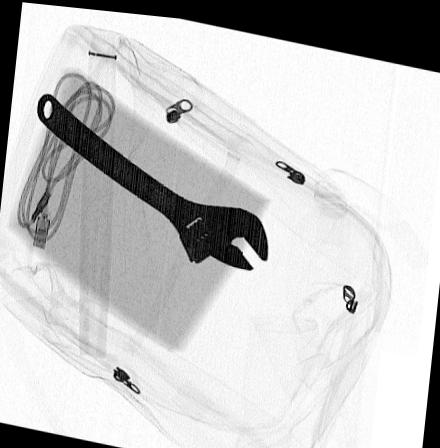Wrench: (36, 91, 270, 264)
